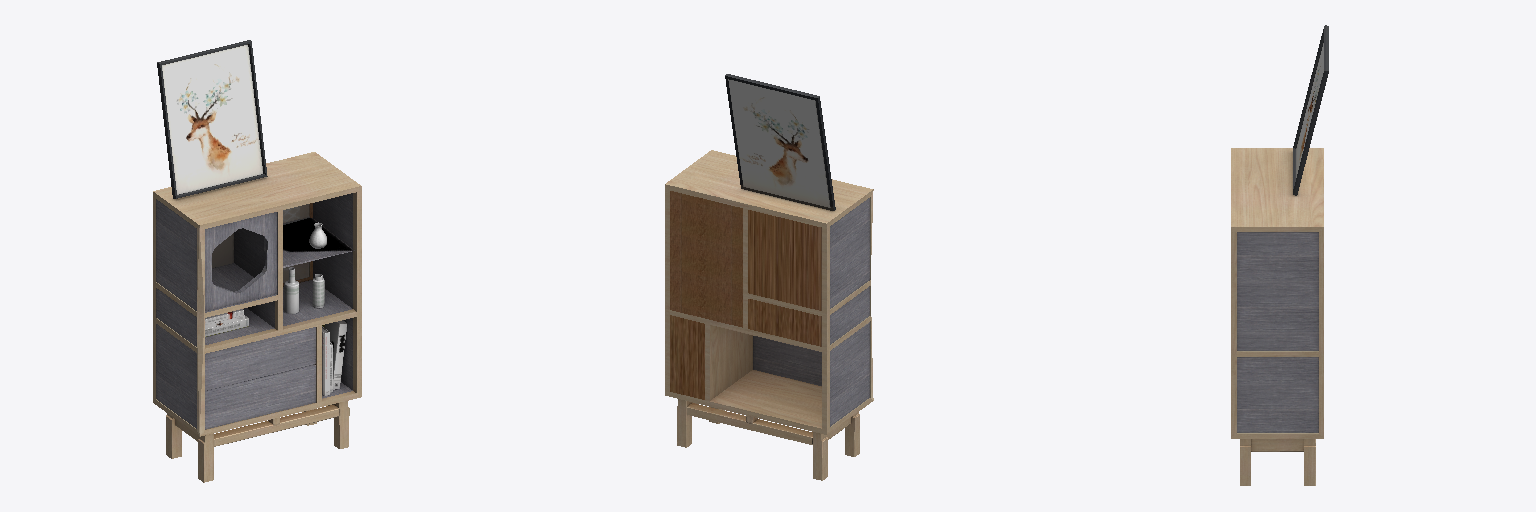
3 views of the same model, side by side, from view 1: azimuth 30°, elevation 25°; view 2: azimuth 150°, elevation 25°; view 3: azimuth 270°, elevation 25° (orthographic).
Visible parts, largest first — view 1: solid_002, solid_001, solid_013, solid_014, solid_021, solid_004, solid_007; view 2: solid_001, solid_015, solid_002, solid_013, solid_014; view 3: solid_002, solid_001, solid_014, solid_013.
Boxes of the visible parts, <box> form: solid_002: <box>156,193,354,429</box>; solid_001: <box>153,152,361,482</box>; solid_013: <box>162,45,262,194</box>; solid_014: <box>157,40,267,198</box>; solid_021: <box>322,322,346,389</box>; solid_004: <box>283,204,309,282</box>; solid_007: <box>284,267,298,313</box>; solid_001: <box>665,150,873,480</box>; solid_015: <box>670,191,821,399</box>; solid_002: <box>753,198,869,426</box>; solid_013: <box>728,79,830,207</box>; solid_014: <box>725,74,835,210</box>; solid_002: <box>1237,232,1318,432</box>; solid_001: <box>1231,148,1323,485</box>; solid_014: <box>1293,25,1328,195</box>; solid_013: <box>1296,43,1323,177</box>.
Bounding box in the file's own units: 0.7162 × 1.64 × 0.3765.
1 materials, 1 textured.